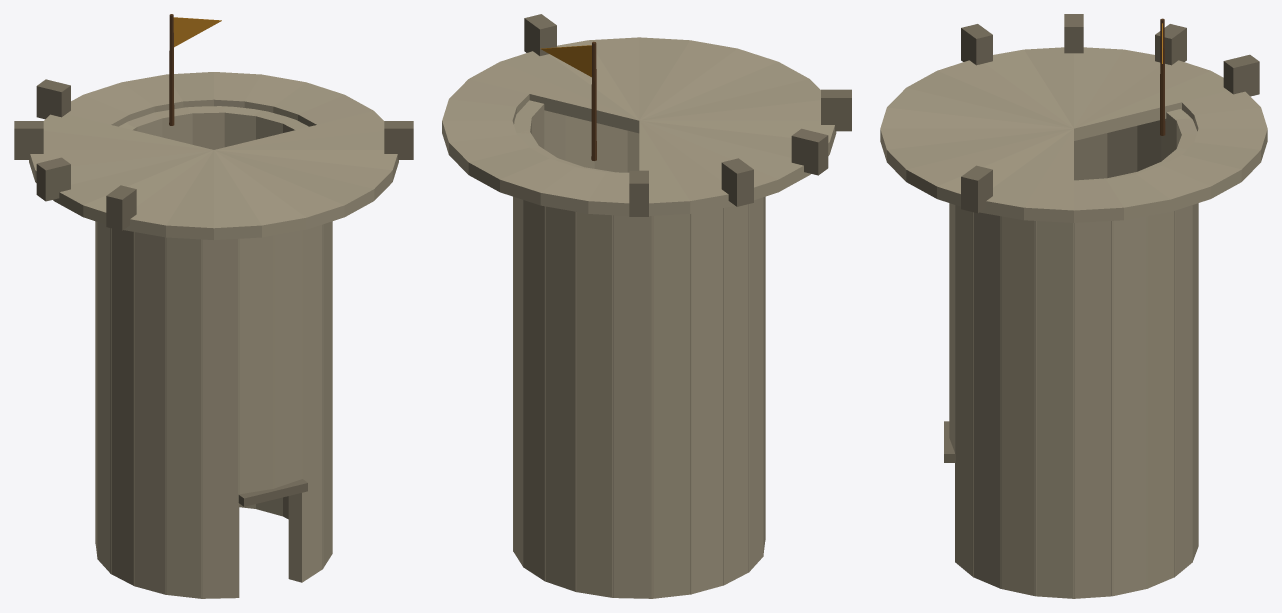
Rendered from tower_meadow_hollow.glb.
3 views of the same model, side by side, from view 1: azimuth 30°, elevation 25°; view 2: azimuth 150°, elevation 25°; view 3: azimuth 270°, elevation 25° (orthographic). The views are drawn at different scales.
Visible parts, largest first — view 1: tower_meadow_hollow; view 2: tower_meadow_hollow; view 3: tower_meadow_hollow.
Boxes of the visible parts, left/top/right/bottom form: tower_meadow_hollow: left=14, top=14, right=413, bottom=598; tower_meadow_hollow: left=442, top=14, right=851, bottom=598; tower_meadow_hollow: left=880, top=14, right=1267, bottom=598.
Size of the model in its own units: 14.55 by 21 by 14.
